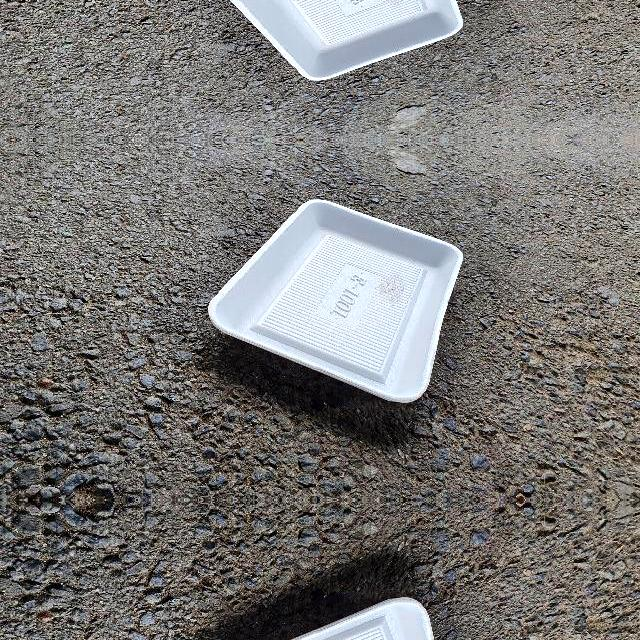Styrofoam: (208, 199, 467, 405), (209, 200, 464, 402), (207, 0, 466, 81), (230, 0, 464, 80), (207, 595, 466, 640)
